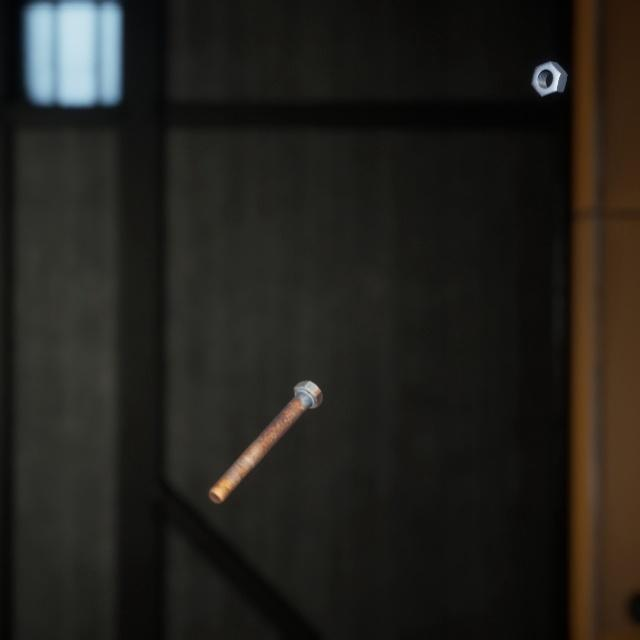bolt: (204, 355, 327, 486)
nut: (526, 46, 572, 91)
